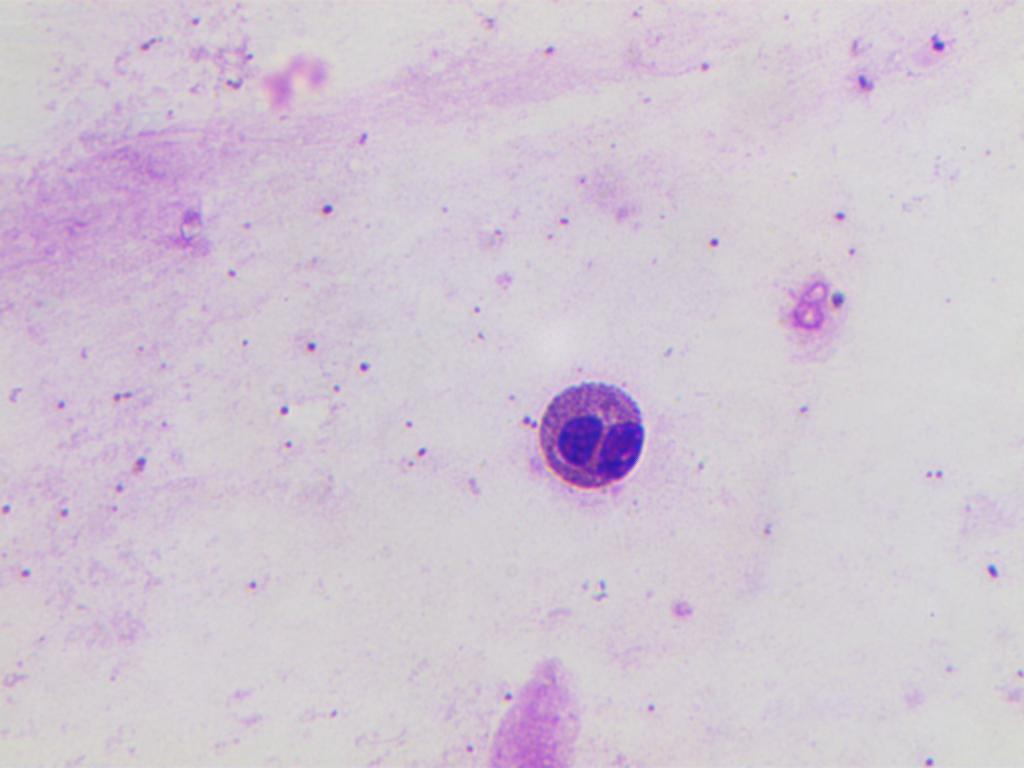eosinophil: (519, 370, 672, 523)
